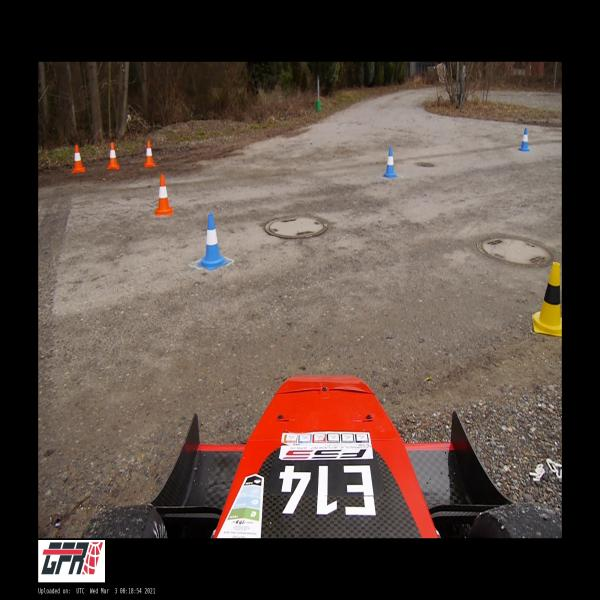blue_cone: (198, 213, 227, 270), (382, 148, 398, 178), (519, 128, 529, 151)
orange_cone: (155, 175, 173, 215), (72, 144, 85, 172), (107, 142, 120, 169), (144, 141, 156, 167)
yellow_cone: (532, 262, 562, 337)
